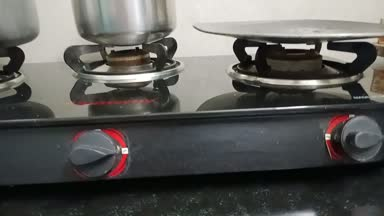flame_gas_off: (255, 43, 382, 169), (66, 40, 159, 187)
